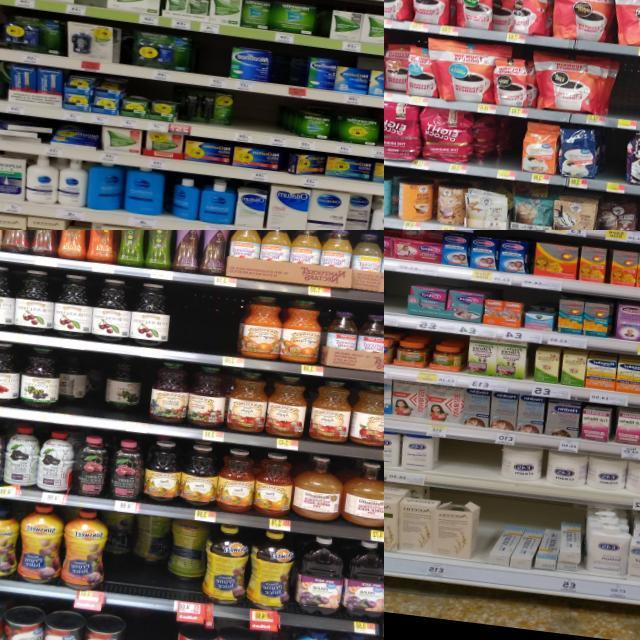Imprecise: (100, 514, 212, 604), (56, 356, 147, 416), (180, 88, 212, 125)
